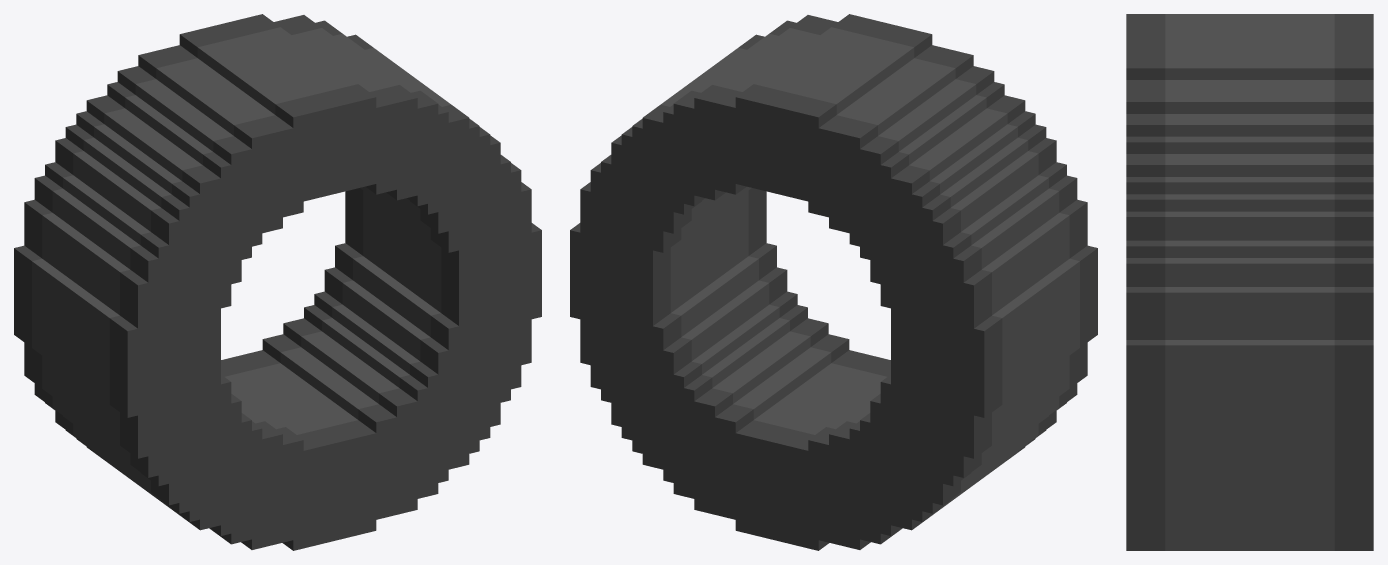
Rendered from Lagushka-2.obj.
3 views of the same model, side by side, from view 1: azimuth 30°, elevation 25°; view 2: azimuth 150°, elevation 25°; view 3: azimuth 270°, elevation 25° (orthographic). The views are drawn at different scales.
Bounding box in the file's own units: 4 × 4 × 1.9.
1 material, 1 textured.
